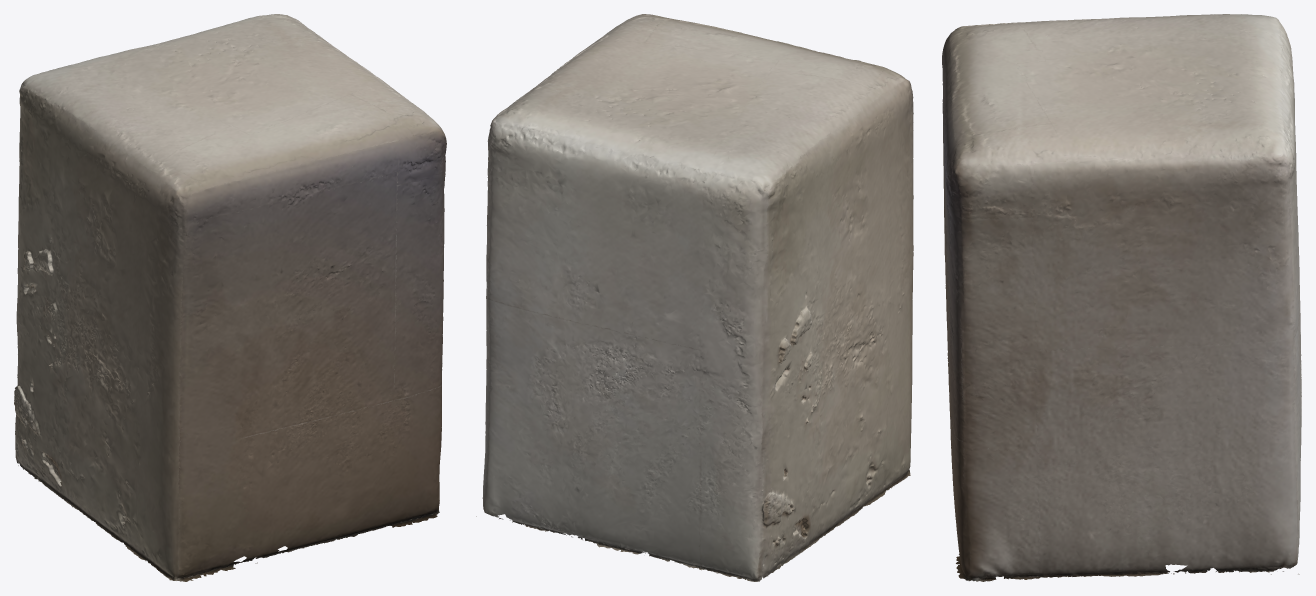
The model's file is omega_otimizado.glb.
The picture shows the model from 3 angles, left to right: view 1: azimuth 30°, elevation 25°; view 2: azimuth 150°, elevation 25°; view 3: azimuth 270°, elevation 25°; orthographic projection. The views are drawn at different scales.
Visible parts, largest first — view 1: Object_10, Object_8, Object_12; view 2: Object_10, Object_8, Object_12; view 3: Object_8, Object_10, Object_12.
Part boxes in pixels (x1,y1,x2,y2): Object_10: (14,14,446,581); Object_8: (20,32,444,580); Object_12: (73,16,446,322); Object_10: (476,14,913,581); Object_8: (482,41,829,516); Object_12: (488,14,784,580); Object_8: (942,14,1301,581); Object_10: (942,14,1301,578); Object_12: (943,23,1301,460).
Size of the model in its own units: 0.3387 by 0.4511 by 0.3378.
1 material, 1 textured.
